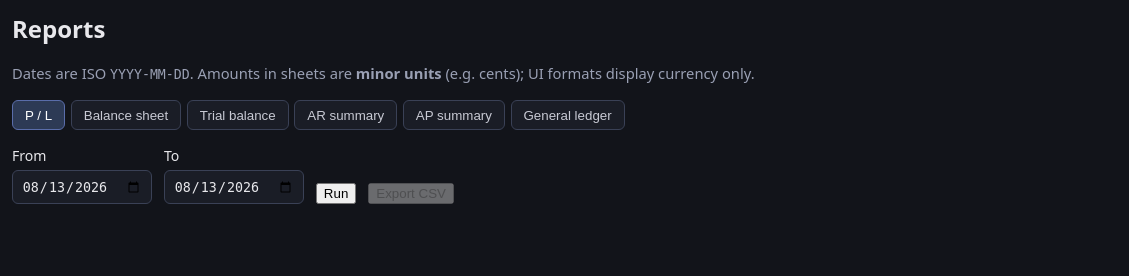
ReportsPage › loads AR summary on tab switch
Step 1. Click the button "AR summary" → click(346, 115), box [294,100,397,130]
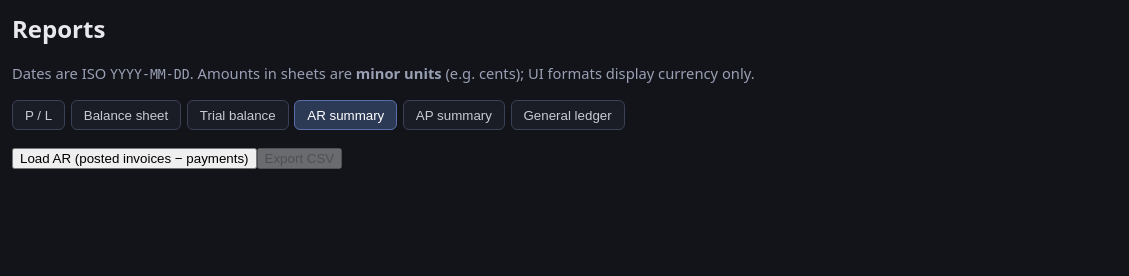
Step 2. Click the button "Load AR (posted invoices − payments)" → click(134, 158), box [12,148,257,169]
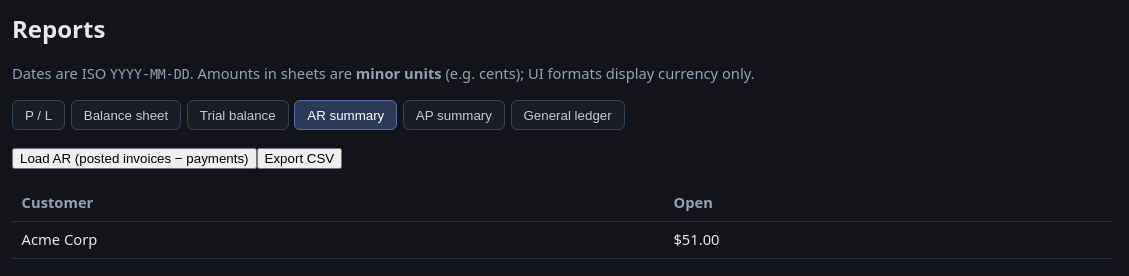
Now the text "$51.00" is shown, box [664,221,1112,258]
